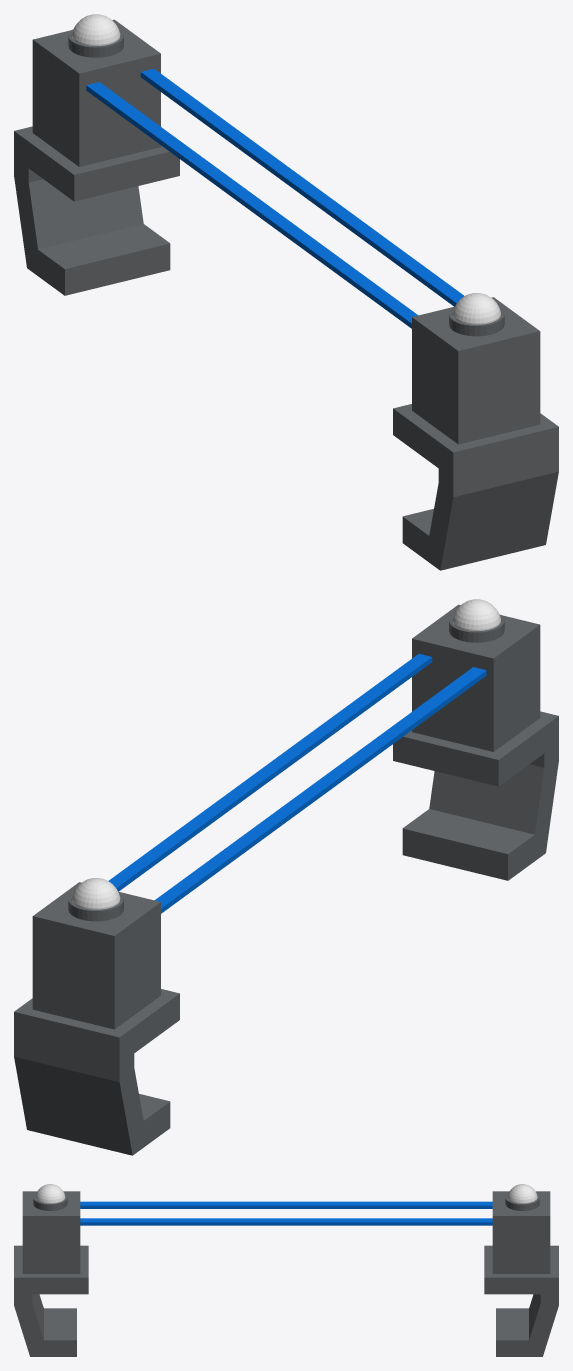
The model's file is CuchillaLvl2.fbx.
The picture shows the model from 3 angles, top to bottom: view 1: azimuth 30°, elevation 25°; view 2: azimuth 150°, elevation 25°; view 3: azimuth 270°, elevation 25°; orthographic projection. The views are drawn at different scales.
Parts seen in each view (by area): view 1: CuchillaLaserLvl2; view 2: CuchillaLaserLvl2; view 3: CuchillaLaserLvl2.
Part boxes in pixels (bbox=[...]): CuchillaLaserLvl2: bbox=[14, 14, 558, 570]; CuchillaLaserLvl2: bbox=[14, 599, 558, 1155]; CuchillaLaserLvl2: bbox=[14, 1184, 558, 1356].
Bounding box in the file's own units: 0.121 × 0.2745 × 0.8718.
